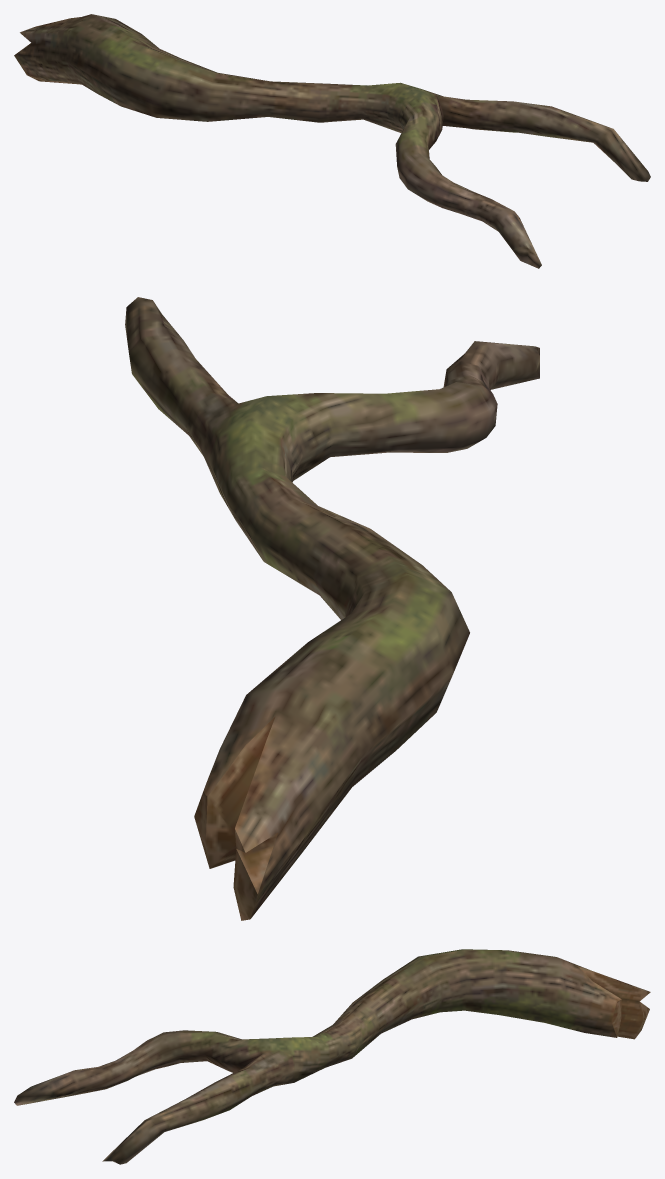
Rendered from TreeRoot3.fbx.
3 renders of one model, top to bottom at view 1: azimuth 30°, elevation 25°; view 2: azimuth 150°, elevation 25°; view 3: azimuth 270°, elevation 25°, orthographic. The views are drawn at different scales.
Visible parts, largest first — view 1: SM_cmn_mount_Root_03a; view 2: SM_cmn_mount_Root_03a; view 3: SM_cmn_mount_Root_03a.
Part boxes in pixels (box(x1,y1,x2,y2)): SM_cmn_mount_Root_03a: box(14, 14, 650, 268); SM_cmn_mount_Root_03a: box(125, 297, 539, 920); SM_cmn_mount_Root_03a: box(14, 949, 650, 1164).
Size of the model in its own units: 103 by 27.82 by 171.
